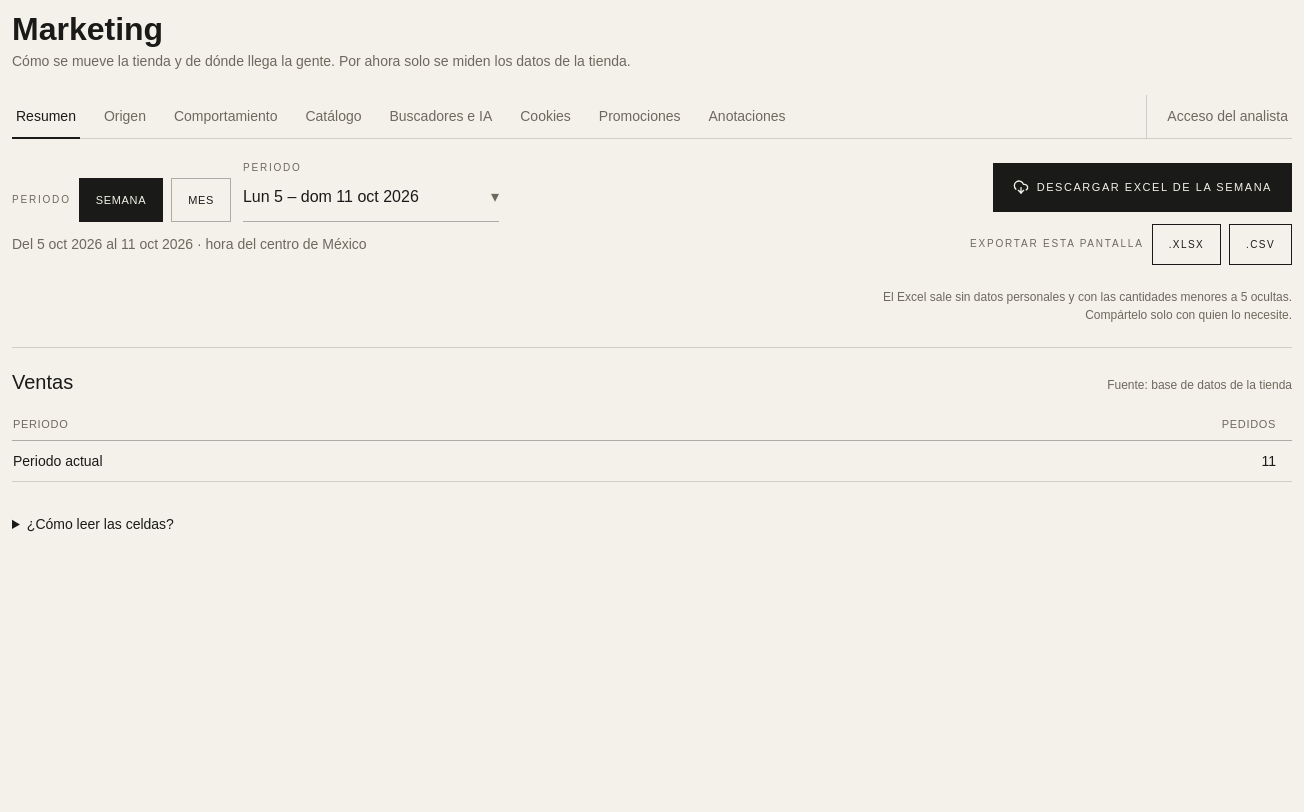
UX-MKT-15 · descarga con fetch + blob › un 400 pinta el banner de periodo no cerrado y no navega
Expected: the element with test id "mkt-screen-a" is shown, [12,347,1292,550]
Click the button with test id "mkt-download-weekly": (1142, 187) [993,163,1292,212]
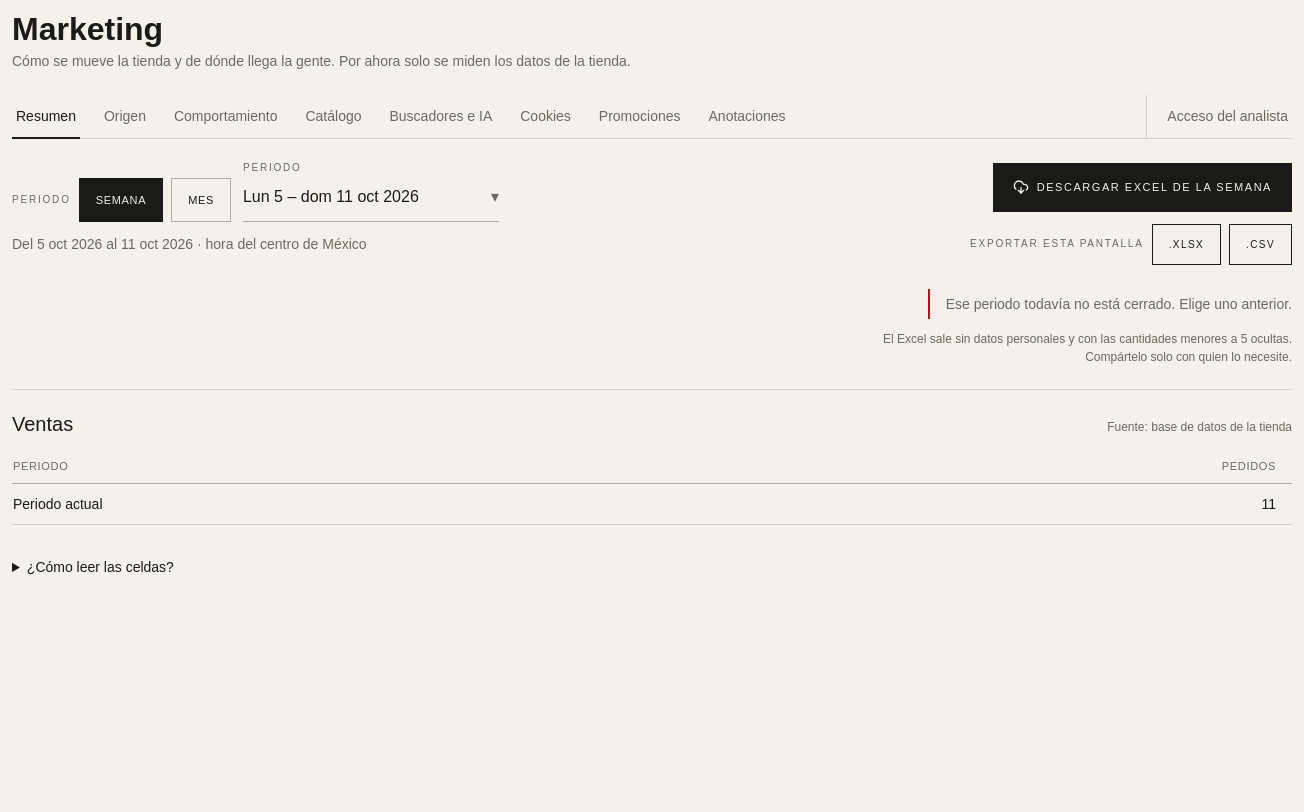
Now the text with test id "mkt-download-error" reads "Ese periodo todavía no está cerrado. Elige uno anterior.", box [946,296,1292,312]
